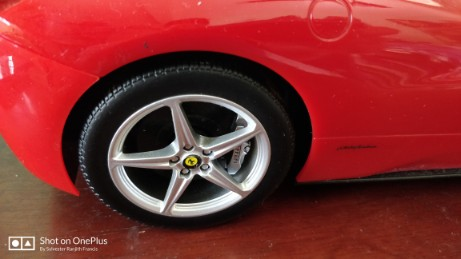aligned_wheel: (76, 58, 294, 230)
